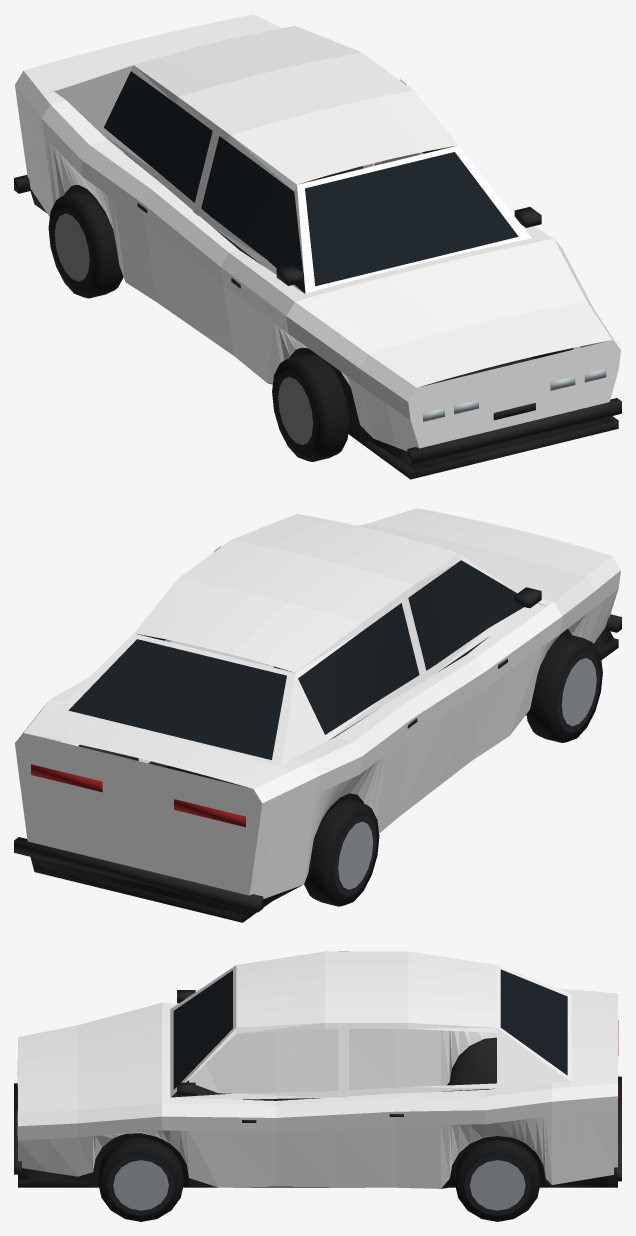
File: tomoe_eco.glb
3 views of the same model, one above another, from view 1: azimuth 30°, elevation 25°; view 2: azimuth 150°, elevation 25°; view 3: azimuth 270°, elevation 25° (orthographic). The views are drawn at different scales.
Parts seen in each view (by area): view 1: Body_Paint, Body_Details, Mount_FrontLeft_Wheel_Details, Mount_RearLeft_Wheel_Details; view 2: Body_Paint, Body_Details, Mount_FrontLeft_Wheel_Details, Mount_RearLeft_Wheel_Details; view 3: Body_Paint, Body_Details, Mount_FrontRight_Wheel_Details, Mount_RearRight_Wheel_Details.
Boxes of the visible parts, x1,y1,x2,y2 form: Body_Paint: [15, 14, 620, 451]; Body_Details: [14, 71, 621, 479]; Mount_FrontLeft_Wheel_Details: [272, 353, 349, 461]; Mount_RearLeft_Wheel_Details: [48, 190, 123, 298]; Body_Paint: [15, 508, 620, 898]; Body_Details: [14, 560, 621, 922]; Mount_FrontLeft_Wheel_Details: [526, 633, 602, 742]; Mount_RearLeft_Wheel_Details: [304, 799, 379, 906]; Body_Paint: [18, 951, 617, 1188]; Body_Details: [14, 969, 621, 1188]; Mount_FrontRight_Wheel_Details: [98, 1137, 183, 1221]; Mount_RearRight_Wheel_Details: [454, 1140, 540, 1221].
Size of the model in its own units: 1.82 by 1.42 by 4.24.
2 materials, 1 textured.
